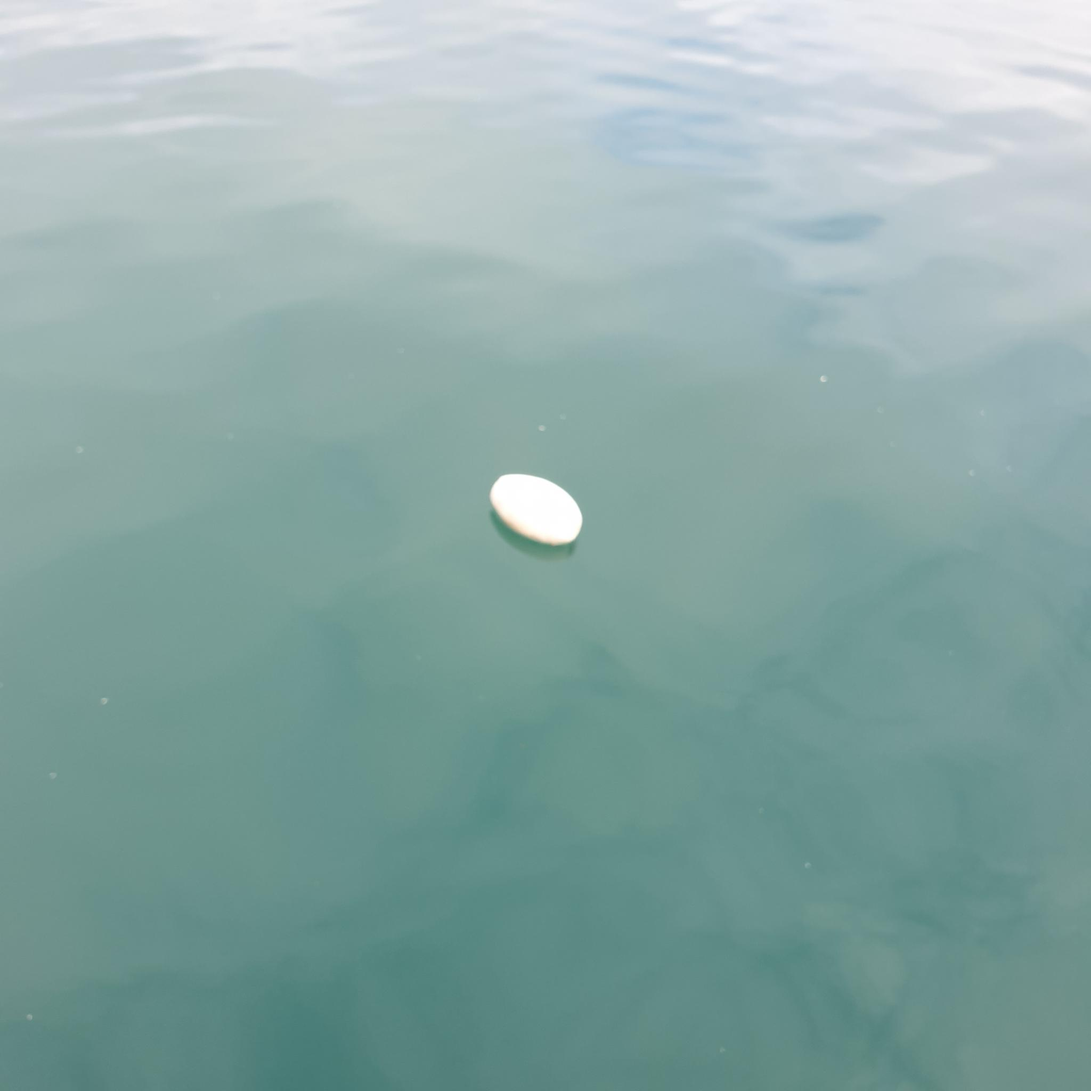sampah_terapung: (491, 474, 583, 545)
